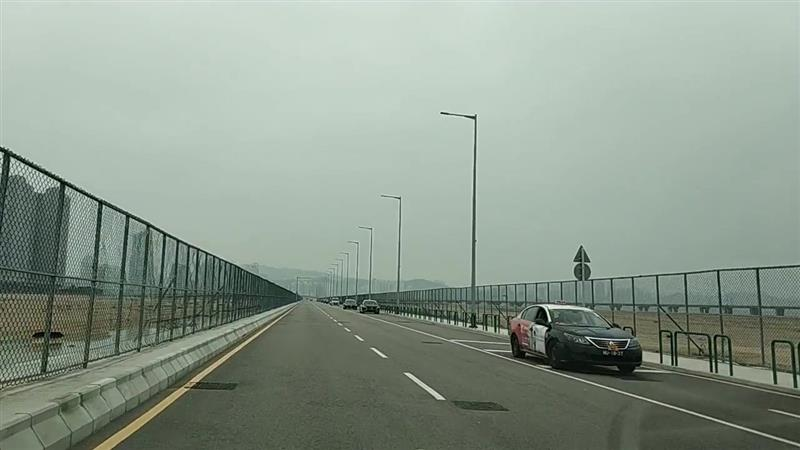car: (508, 304, 647, 374), (358, 298, 381, 316), (343, 298, 358, 309)
